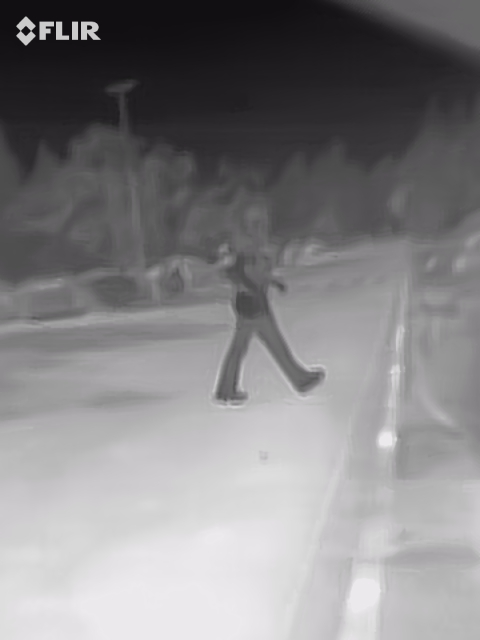head: (236, 205, 270, 243)
